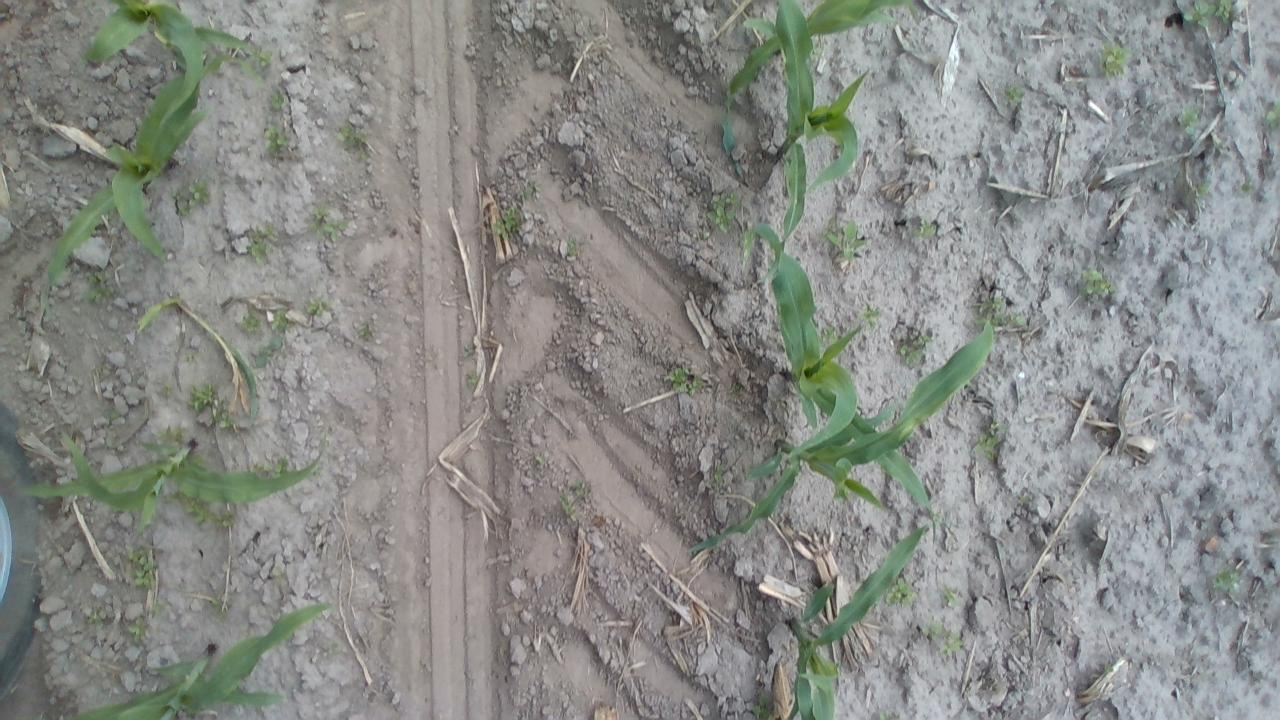Maize: (683, 298, 1001, 569), (731, 215, 936, 528), (44, 28, 230, 312), (732, 1, 884, 251), (719, 0, 920, 177), (8, 424, 334, 532), (69, 598, 328, 720), (779, 521, 930, 718), (126, 287, 260, 418), (82, 0, 260, 77)
Weeds: (822, 218, 868, 264), (704, 187, 742, 237), (918, 618, 966, 656), (182, 498, 238, 530), (1181, 0, 1240, 30), (976, 296, 1026, 330), (306, 204, 348, 242), (123, 546, 158, 589), (174, 178, 212, 217), (1077, 266, 1117, 300), (491, 202, 525, 241), (244, 223, 276, 263), (83, 267, 117, 304), (1100, 43, 1134, 80), (897, 334, 936, 366), (666, 365, 704, 397), (972, 421, 1003, 459), (186, 380, 220, 414), (336, 122, 370, 156), (562, 477, 590, 517), (262, 120, 291, 158), (1208, 564, 1242, 596), (1176, 100, 1204, 136), (884, 578, 918, 606), (253, 341, 284, 369), (750, 692, 779, 719), (858, 302, 884, 330), (305, 294, 331, 318), (1001, 84, 1025, 108), (268, 308, 288, 336), (916, 216, 938, 241), (236, 314, 262, 335), (1192, 178, 1214, 202), (520, 180, 540, 204), (269, 88, 289, 112), (271, 454, 290, 479), (130, 618, 148, 644), (564, 233, 582, 259), (156, 427, 182, 445), (938, 587, 959, 609), (256, 48, 276, 70), (821, 324, 842, 344), (356, 322, 378, 341), (102, 409, 124, 428), (1262, 103, 1276, 132), (464, 368, 481, 391), (208, 596, 228, 614), (86, 608, 108, 624), (728, 380, 747, 398), (712, 464, 728, 485), (874, 709, 907, 719), (532, 452, 550, 470), (159, 383, 178, 400), (459, 340, 475, 360), (183, 348, 200, 366), (150, 599, 166, 618), (1236, 179, 1252, 197), (324, 640, 341, 656), (810, 44, 824, 63), (269, 564, 284, 581), (1017, 492, 1034, 507), (220, 411, 233, 430), (1103, 662, 1117, 678), (250, 462, 266, 474)
